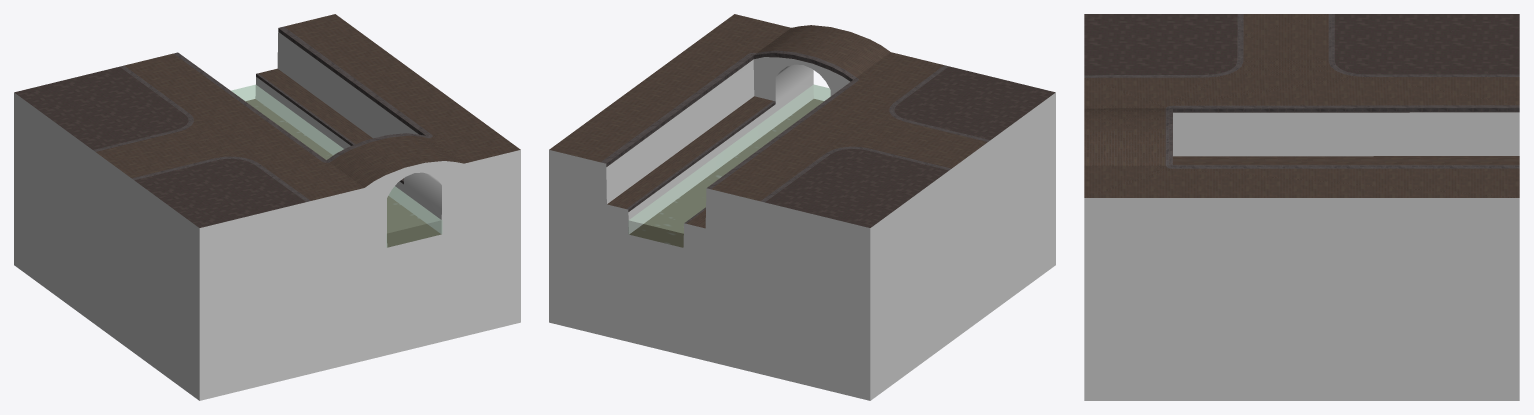
File: Chunk02_Street.fbx
The picture shows the model from 3 angles, left to right: view 1: azimuth 30°, elevation 25°; view 2: azimuth 150°, elevation 25°; view 3: azimuth 270°, elevation 25°; orthographic projection. The views are drawn at different scales.
Parts seen in each view (by area): view 1: Cube.005, Cube.010; view 2: Cube.005, Cube.010; view 3: Cube.005.
Boxes of the visible parts, left/top/right/bottom form: Cube.005: left=14, top=14, right=520, bottom=400; Cube.010: left=231, top=84, right=442, bottom=247; Cube.005: left=549, top=14, right=1055, bottom=400; Cube.010: left=628, top=84, right=830, bottom=247; Cube.005: left=1084, top=14, right=1519, bottom=400.
Size of the model in its own units: 3000 by 1634 by 3000.
